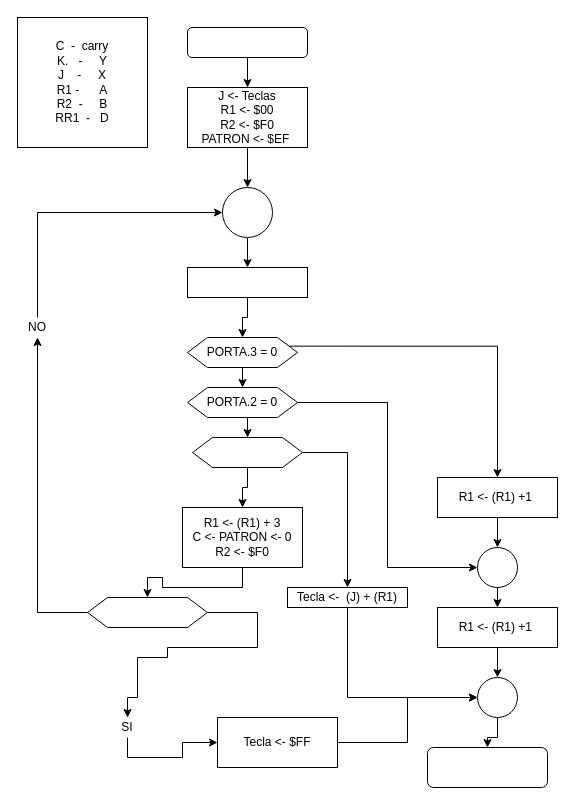
The diagram is 575 pixels wide and 805 high, and some of its shapes have lost their labels. The centre of each missing label's shape, as x and y in pixels:
"MUX_TECLADO" goes at point (247, 42).
"PORTA <- (PATRON)" goes at point (247, 282).
"PORTA.1 = 0" goes at point (247, 452).
"R2 = PATRON" goes at point (147, 612).
"RETURN" goes at point (487, 767).
